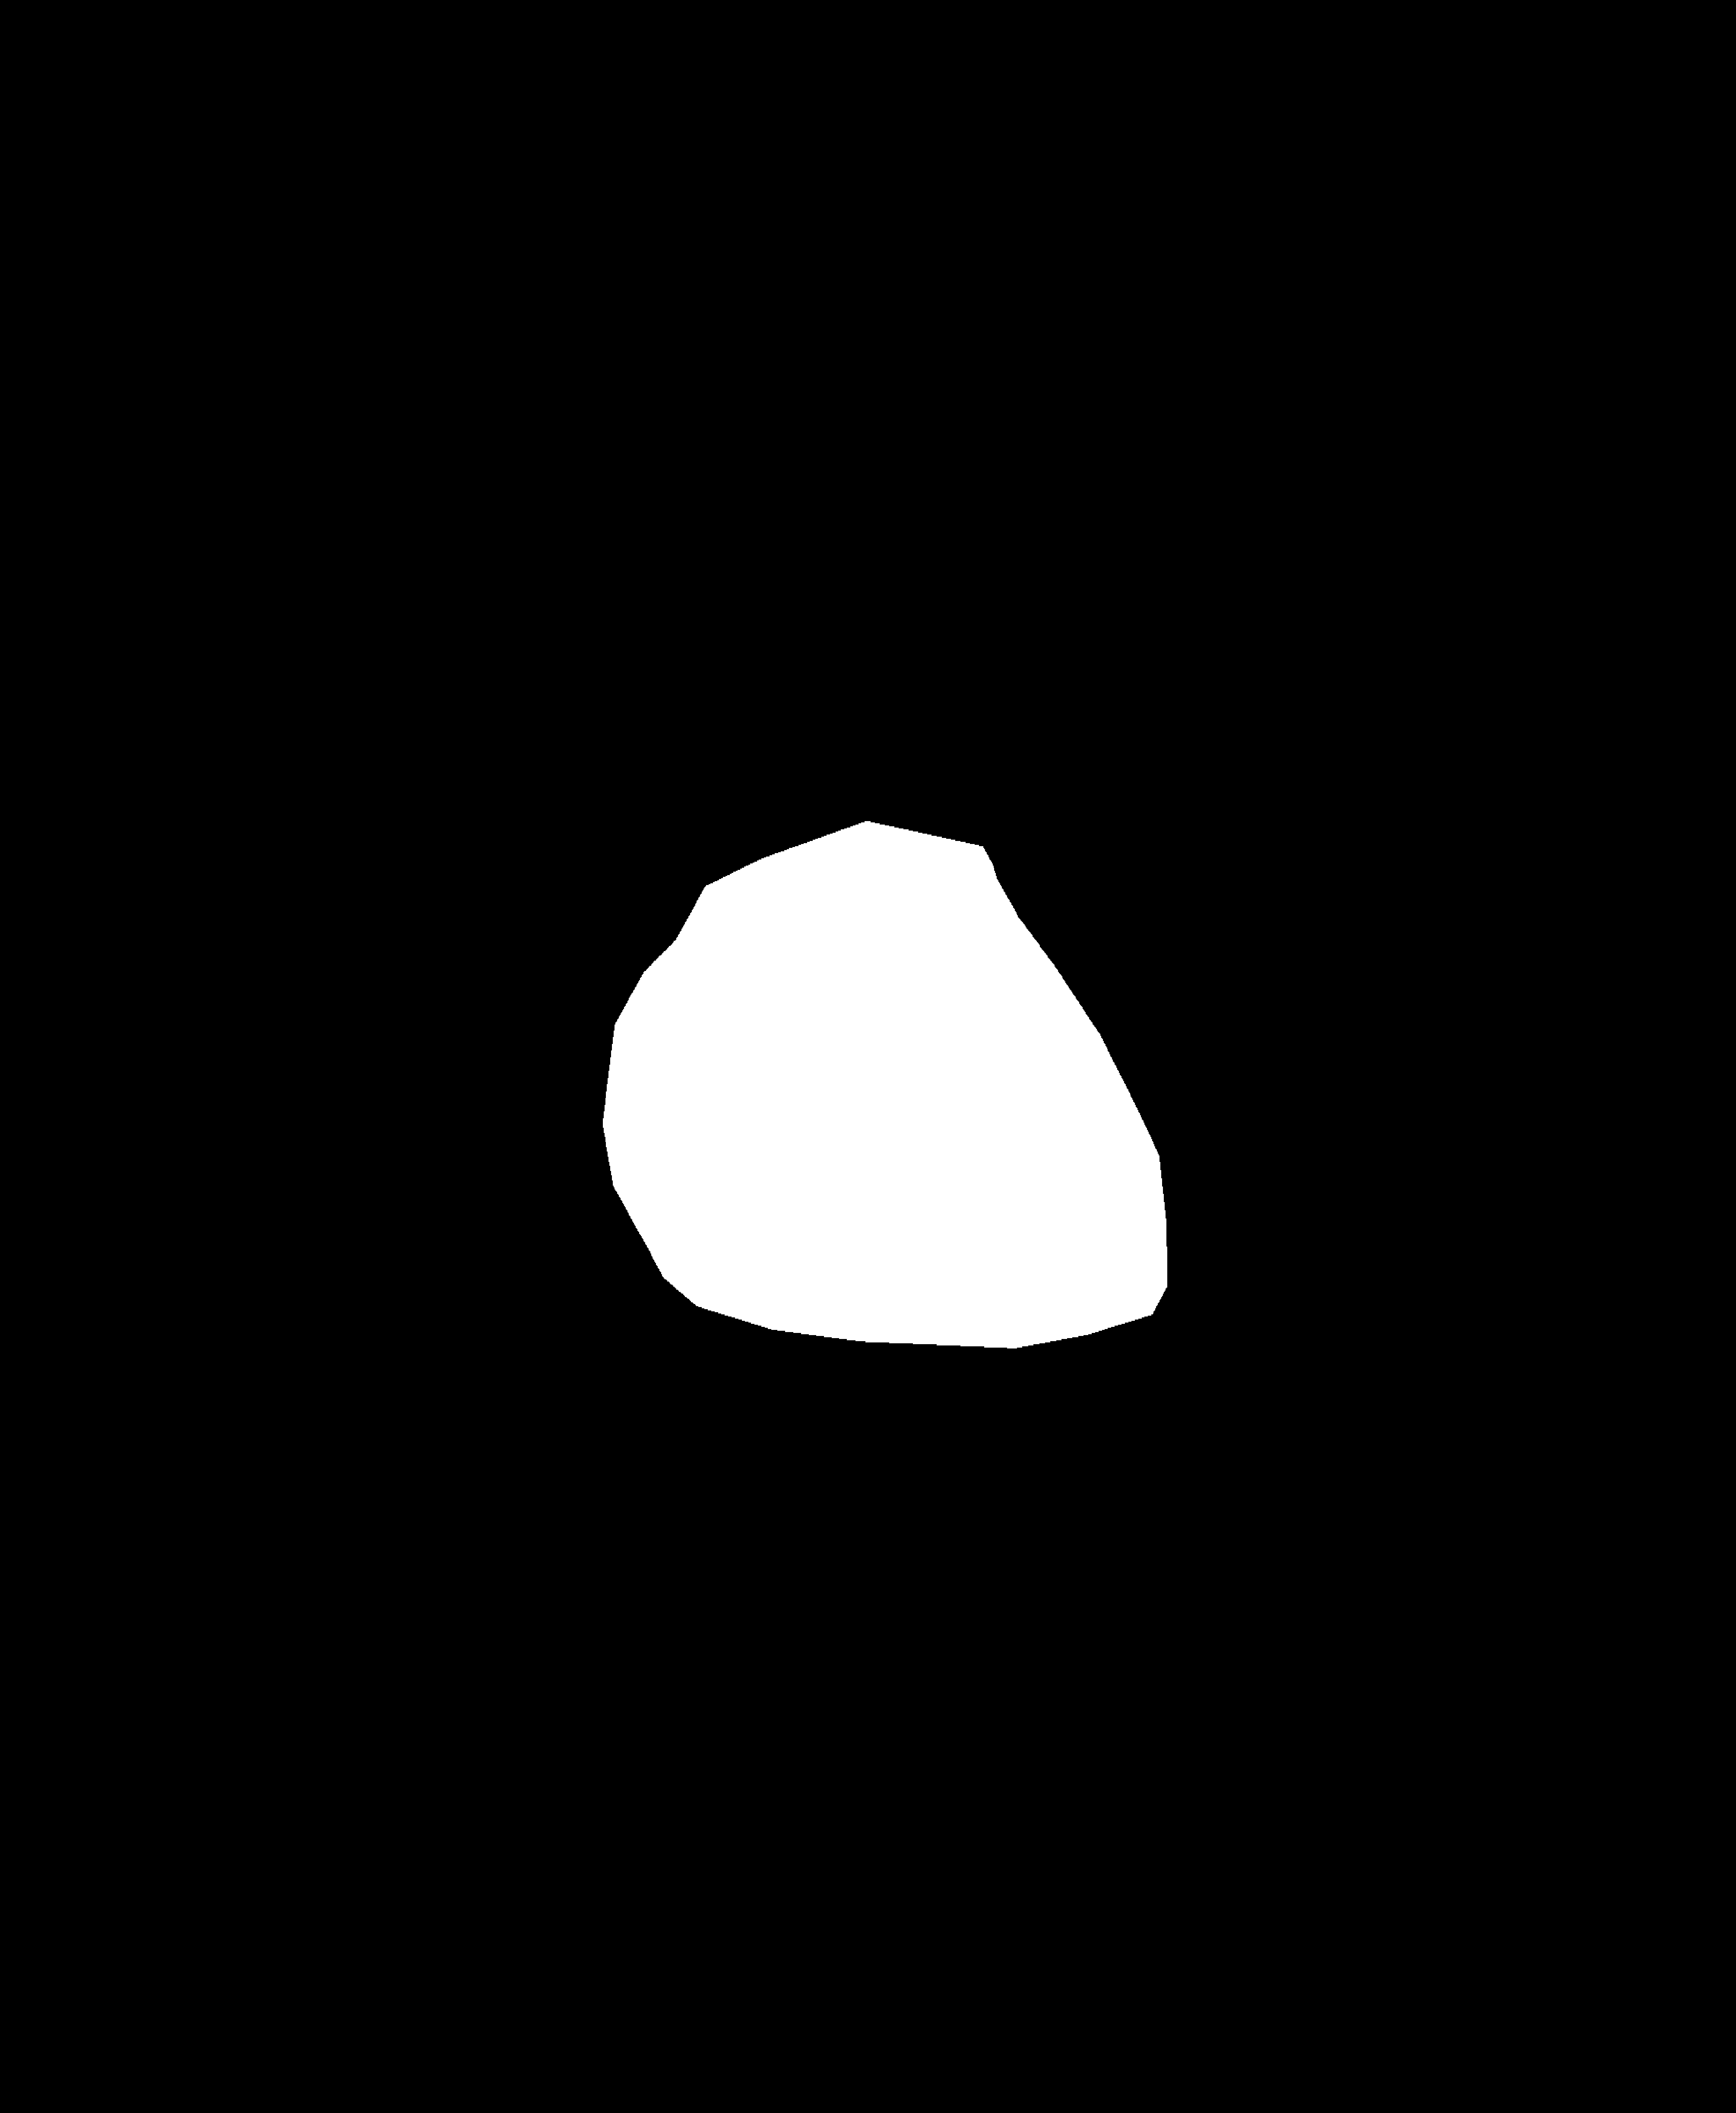heart: (607, 928, 1167, 1325)
left_lung: (161, 277, 725, 1464)
right_lung: (874, 256, 1490, 1474)
